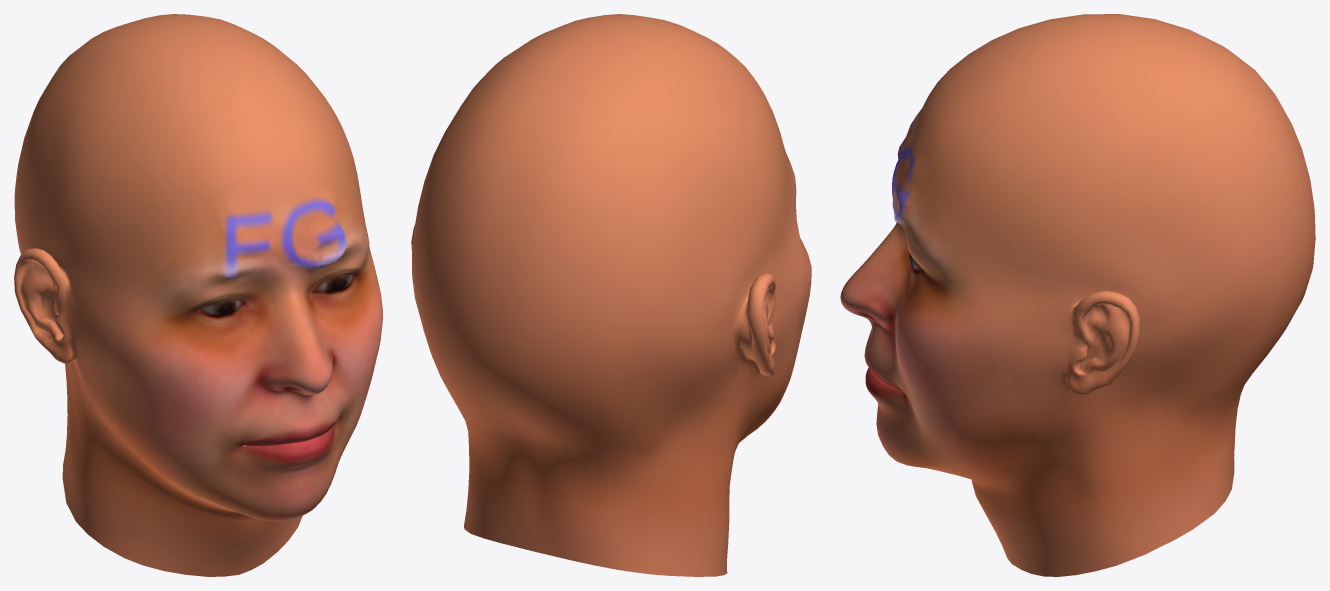
File: avg_anyrace_female_04.obj
3 views of the same model, side by side, from view 1: azimuth 30°, elevation 25°; view 2: azimuth 150°, elevation 25°; view 3: azimuth 270°, elevation 25° (orthographic). The views are drawn at different scales.
Parts seen in each view (by area): view 1: HeadHires; view 2: HeadHires; view 3: HeadHires.
Boxes of the visible parts, <box> form: HeadHires: <box>14,14,382,576</box>; HeadHires: <box>411,14,811,576</box>; HeadHires: <box>840,14,1315,576</box>.
Size of the model in its own units: 190 by 283 by 233.
Materials: 1 (1 with a texture image).
